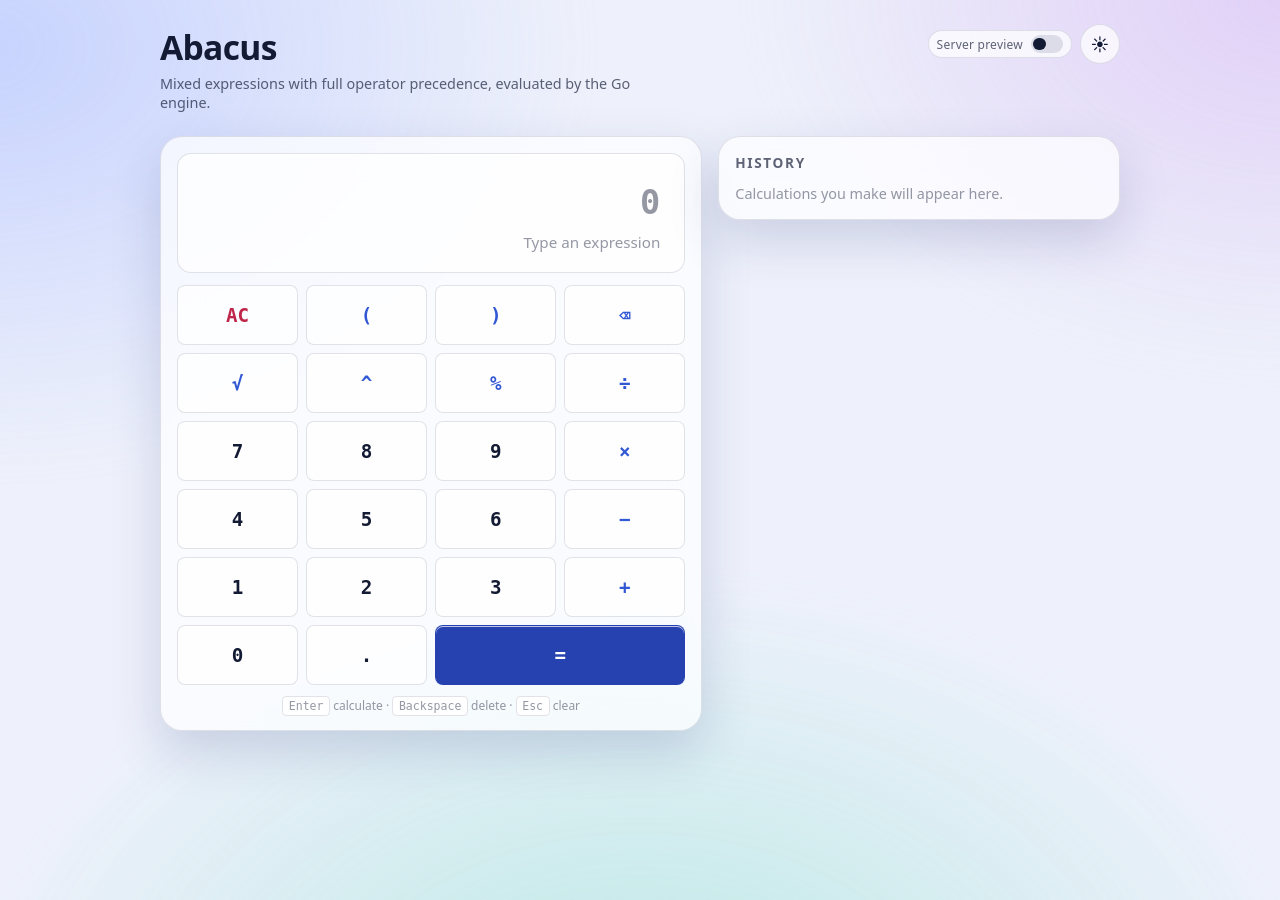
Test: building an expression › deletes and clears
Step 1. Click the button "1" → (238, 587), box 177,557 -> 298,617
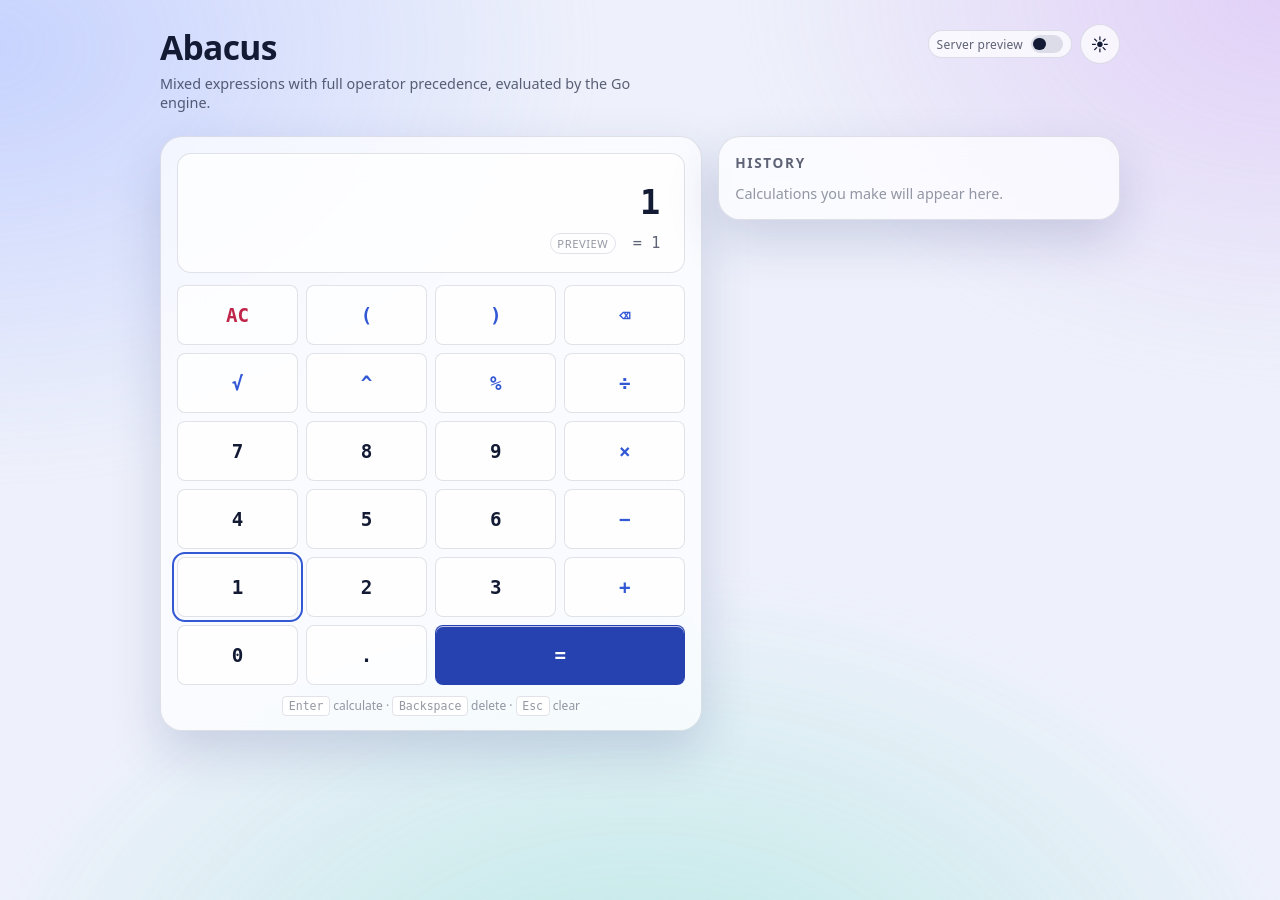
Step 2. Click the button "2" → (367, 587), box 306,557 -> 427,617
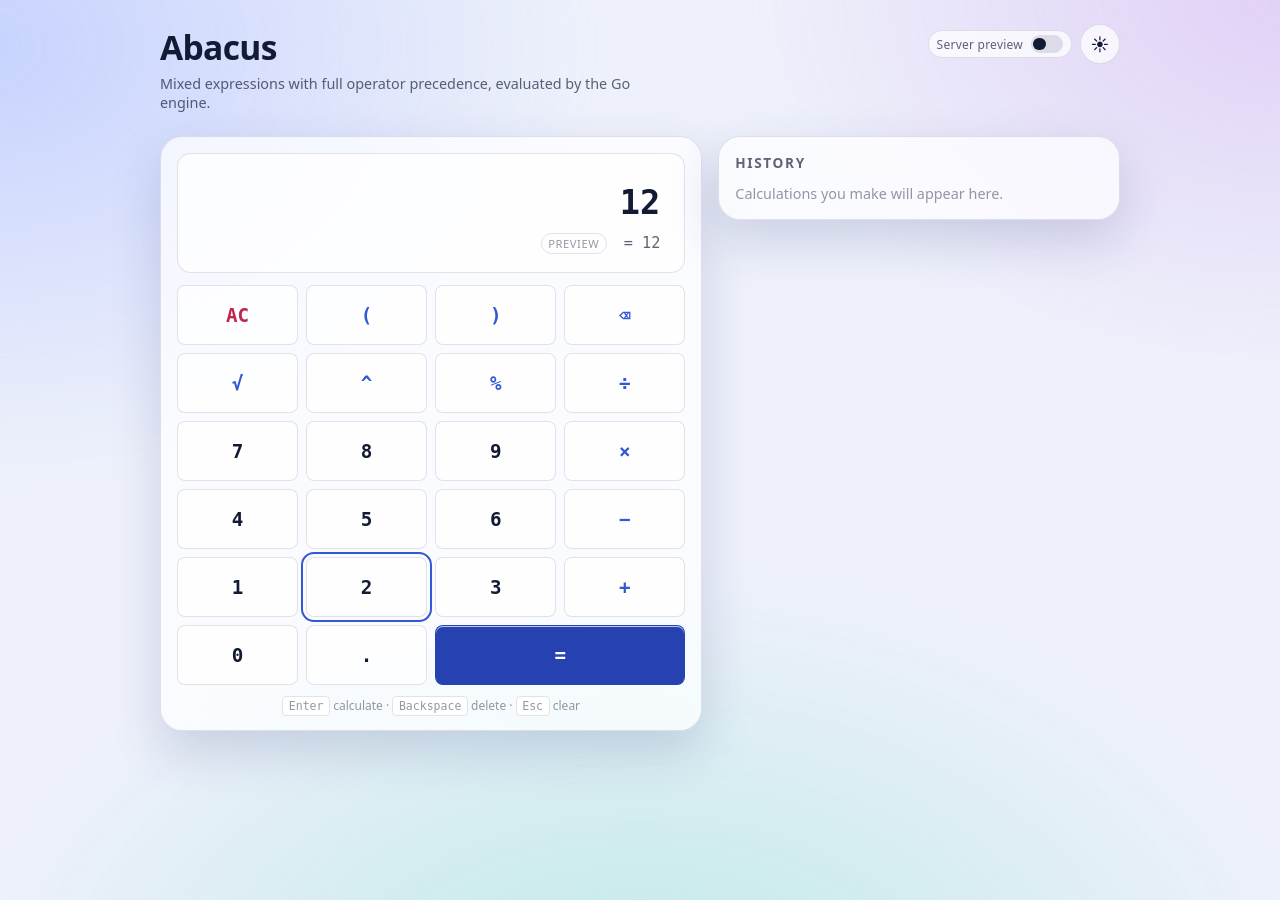
Step 3. Click the button "3" → (496, 587), box 435,557 -> 556,617
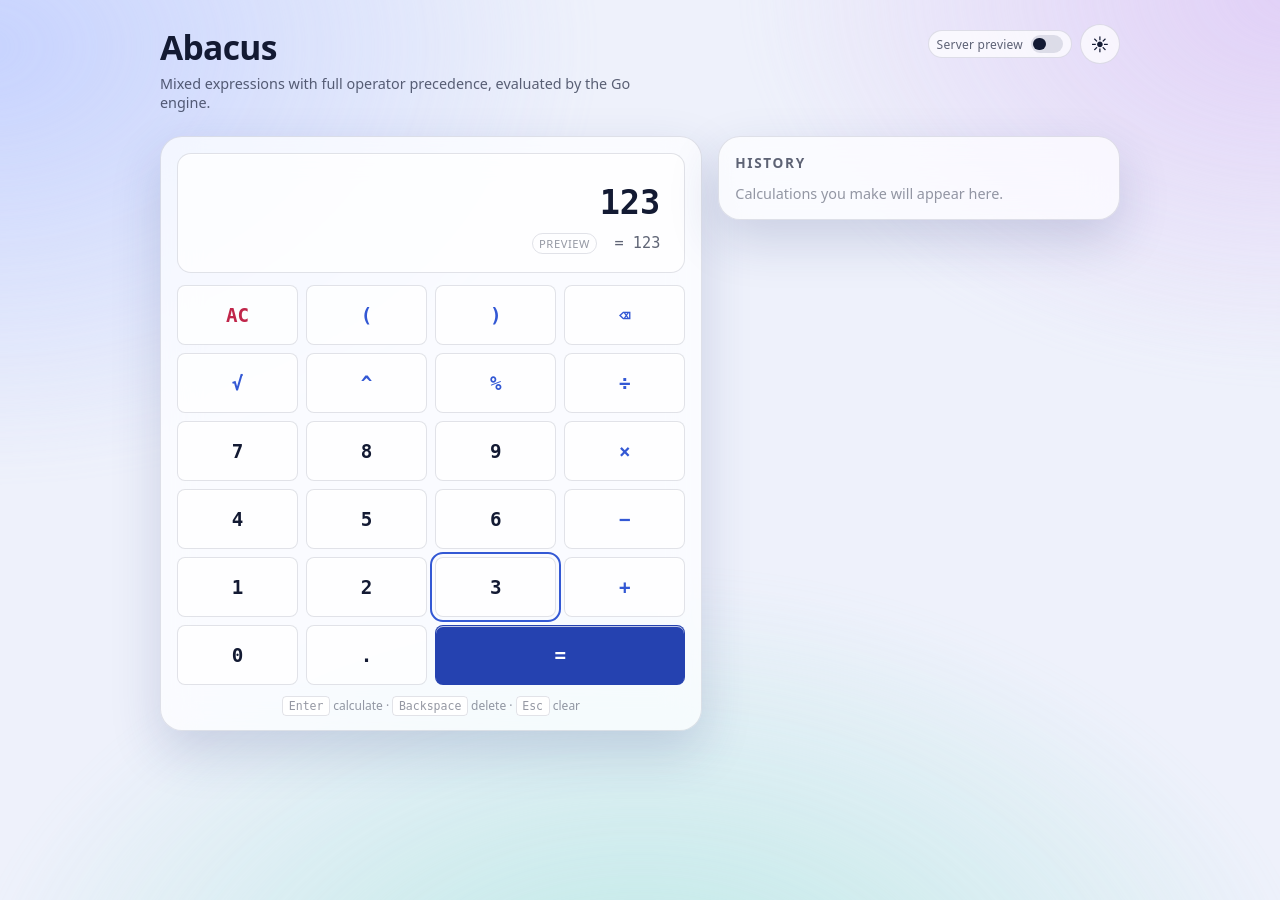
Step 4. Click the button named "Backspace" → (625, 315), box 564,285 -> 685,345
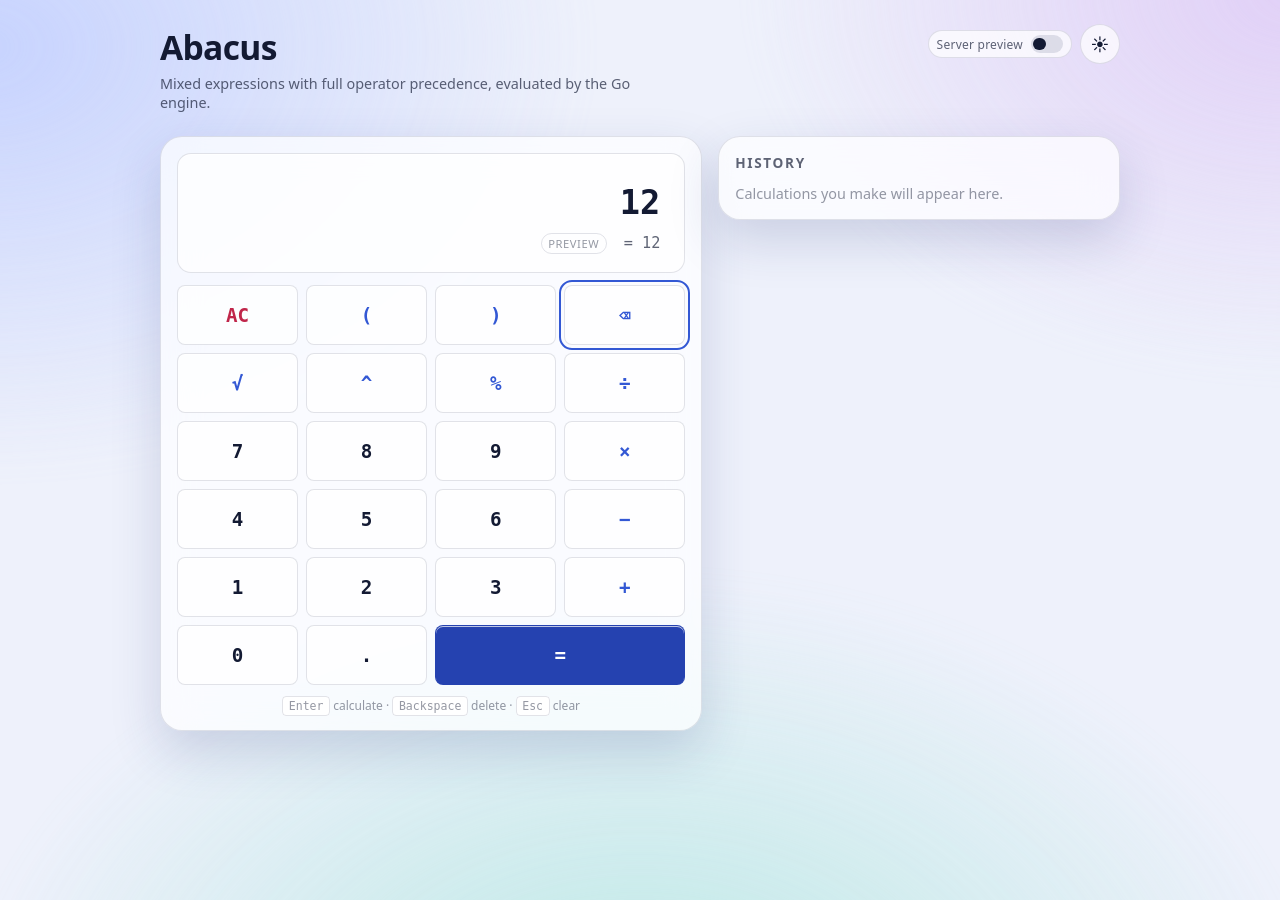
Check: the text with test id "expression" reads "12", box 620,183 -> 660,222
Step 5. Click the button with aria-label "Clear all" → (238, 315), box 177,285 -> 298,345
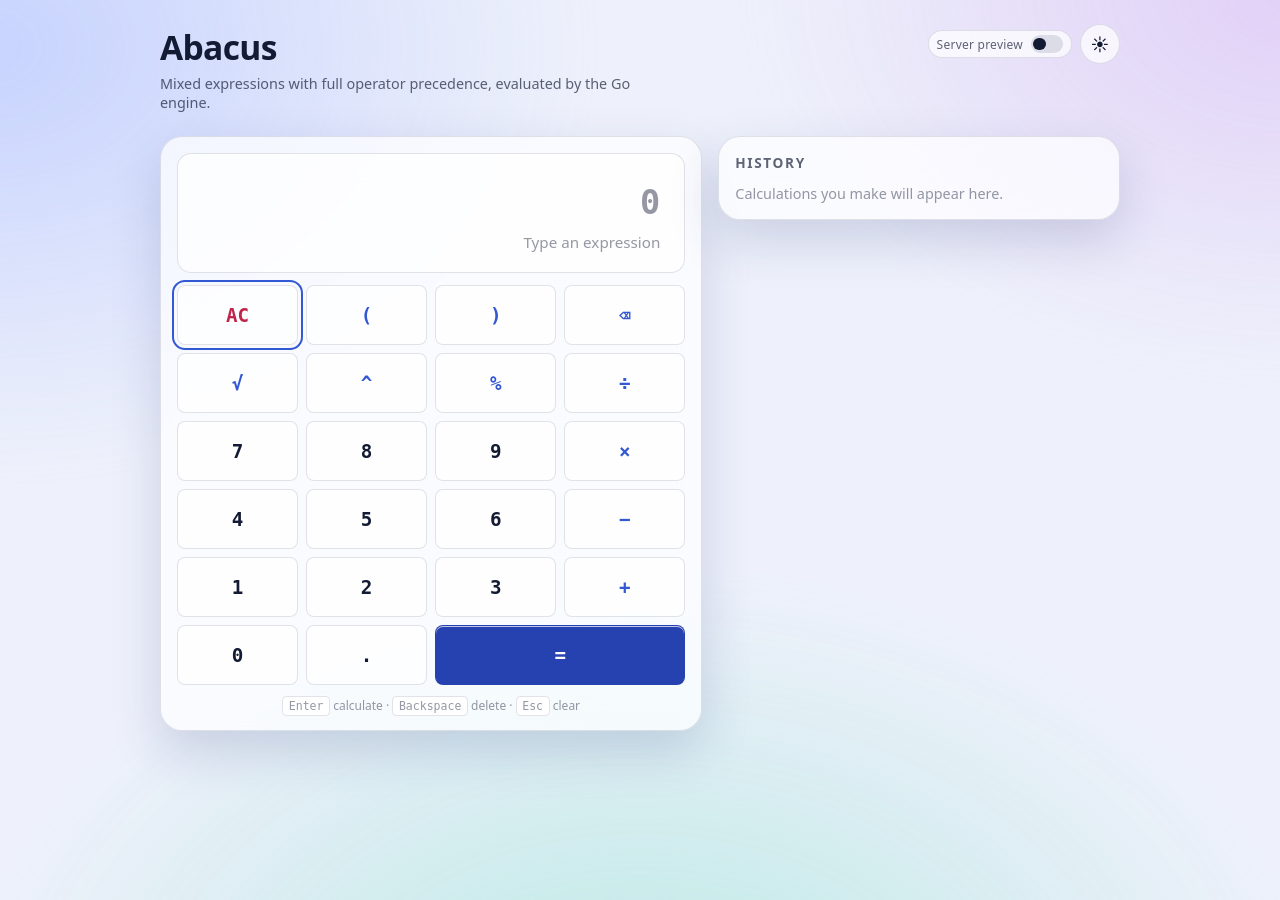
Check: the element with test id "expression" reads "0", box 640,183 -> 660,222
